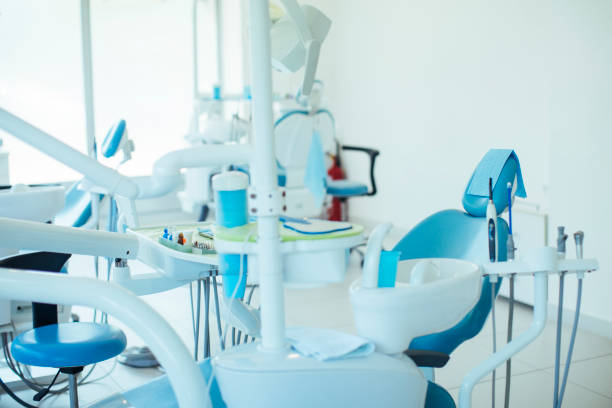chair: (13, 317, 128, 399)
